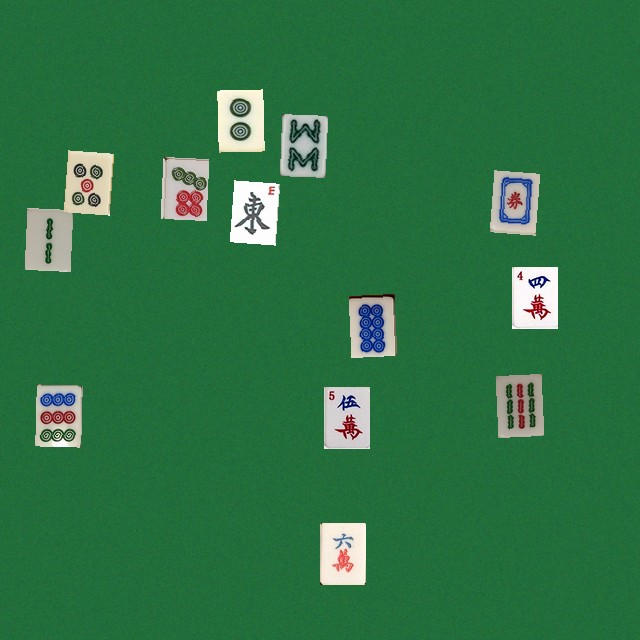tile: (489, 170, 535, 232), (24, 207, 70, 269), (323, 386, 369, 448), (217, 89, 263, 151), (279, 114, 325, 176), (348, 293, 394, 355), (160, 156, 206, 218), (63, 150, 109, 212), (319, 522, 365, 584), (495, 373, 541, 435), (229, 180, 275, 242), (511, 266, 557, 328), (35, 384, 81, 446)
